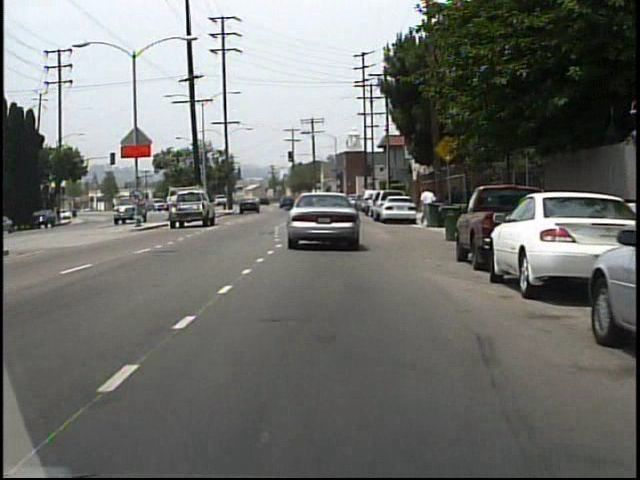person: (420, 186, 434, 218)
